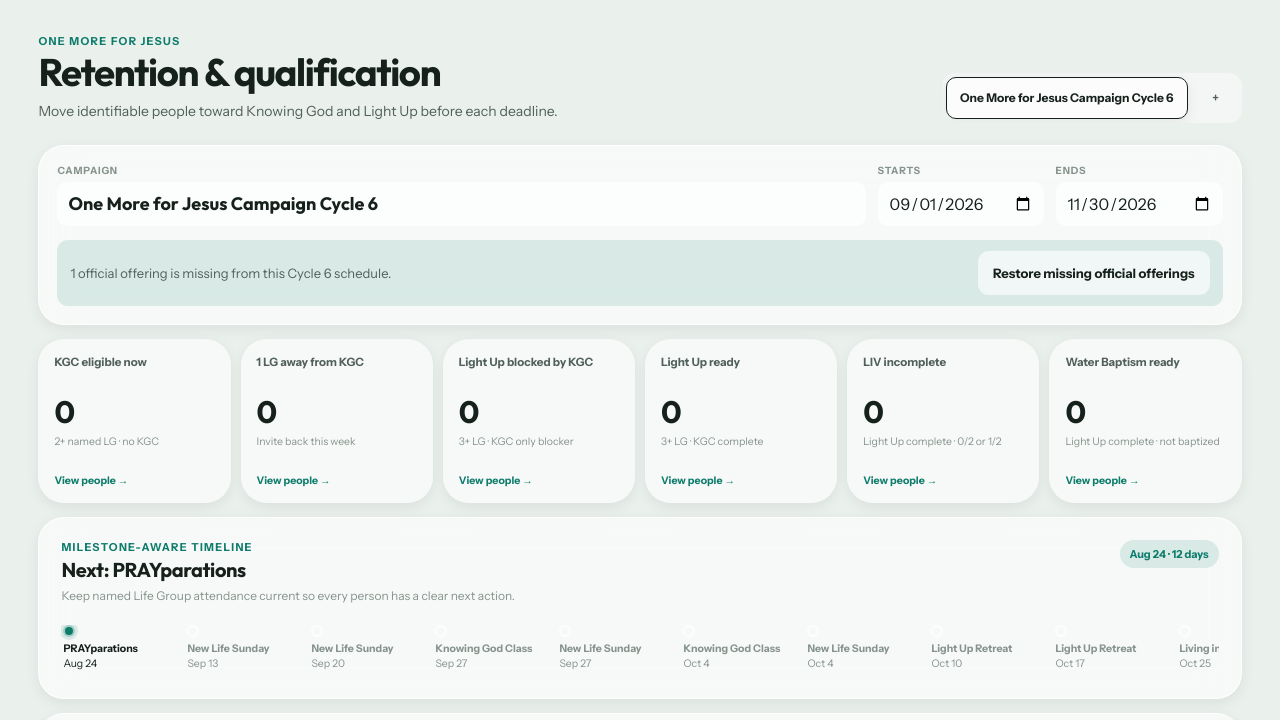
CampaignPage › repairs an interrupted official schedule setup without duplicating existing offerings
Click the button "Restore missing official offerings" at (1094, 273), box [978,251,1210,295]
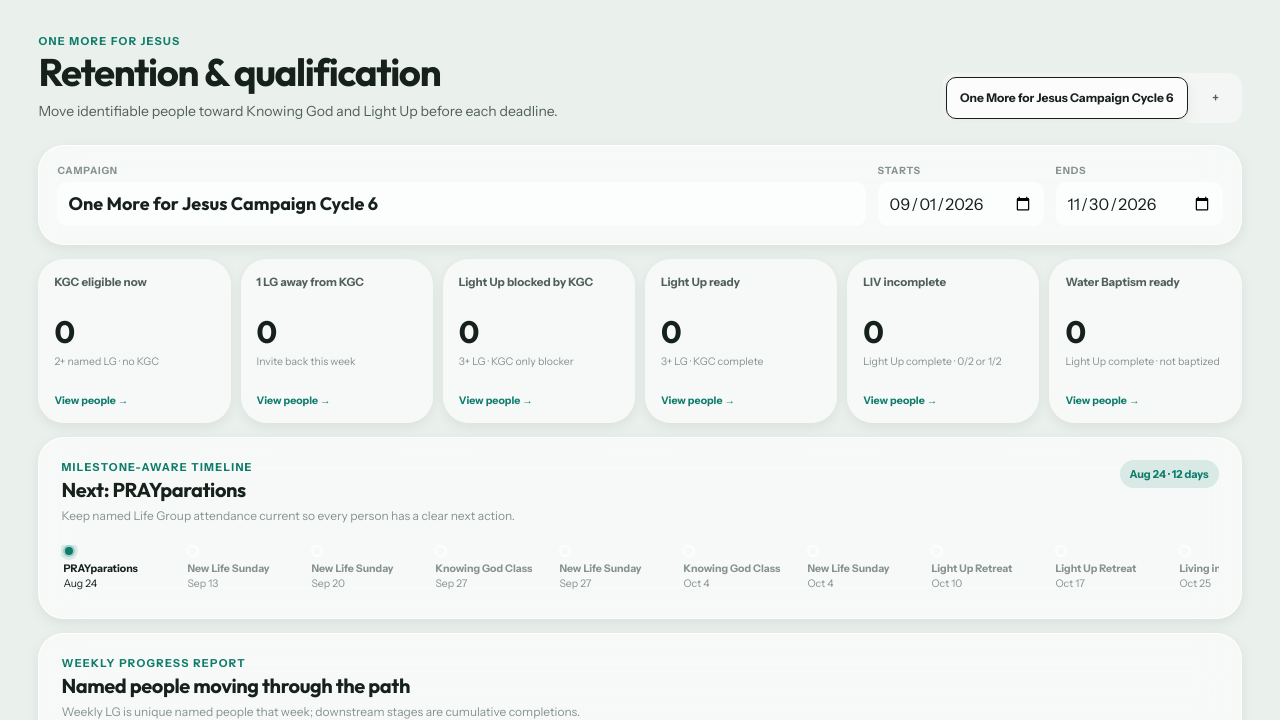
Result: the button "Restore missing official offerings" is gone
